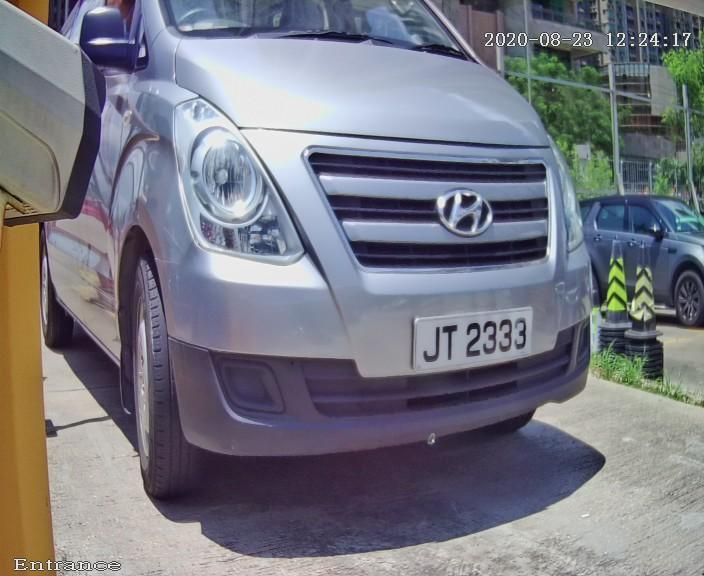Car: (38, 1, 620, 517)
License Plate: (406, 304, 541, 379)
